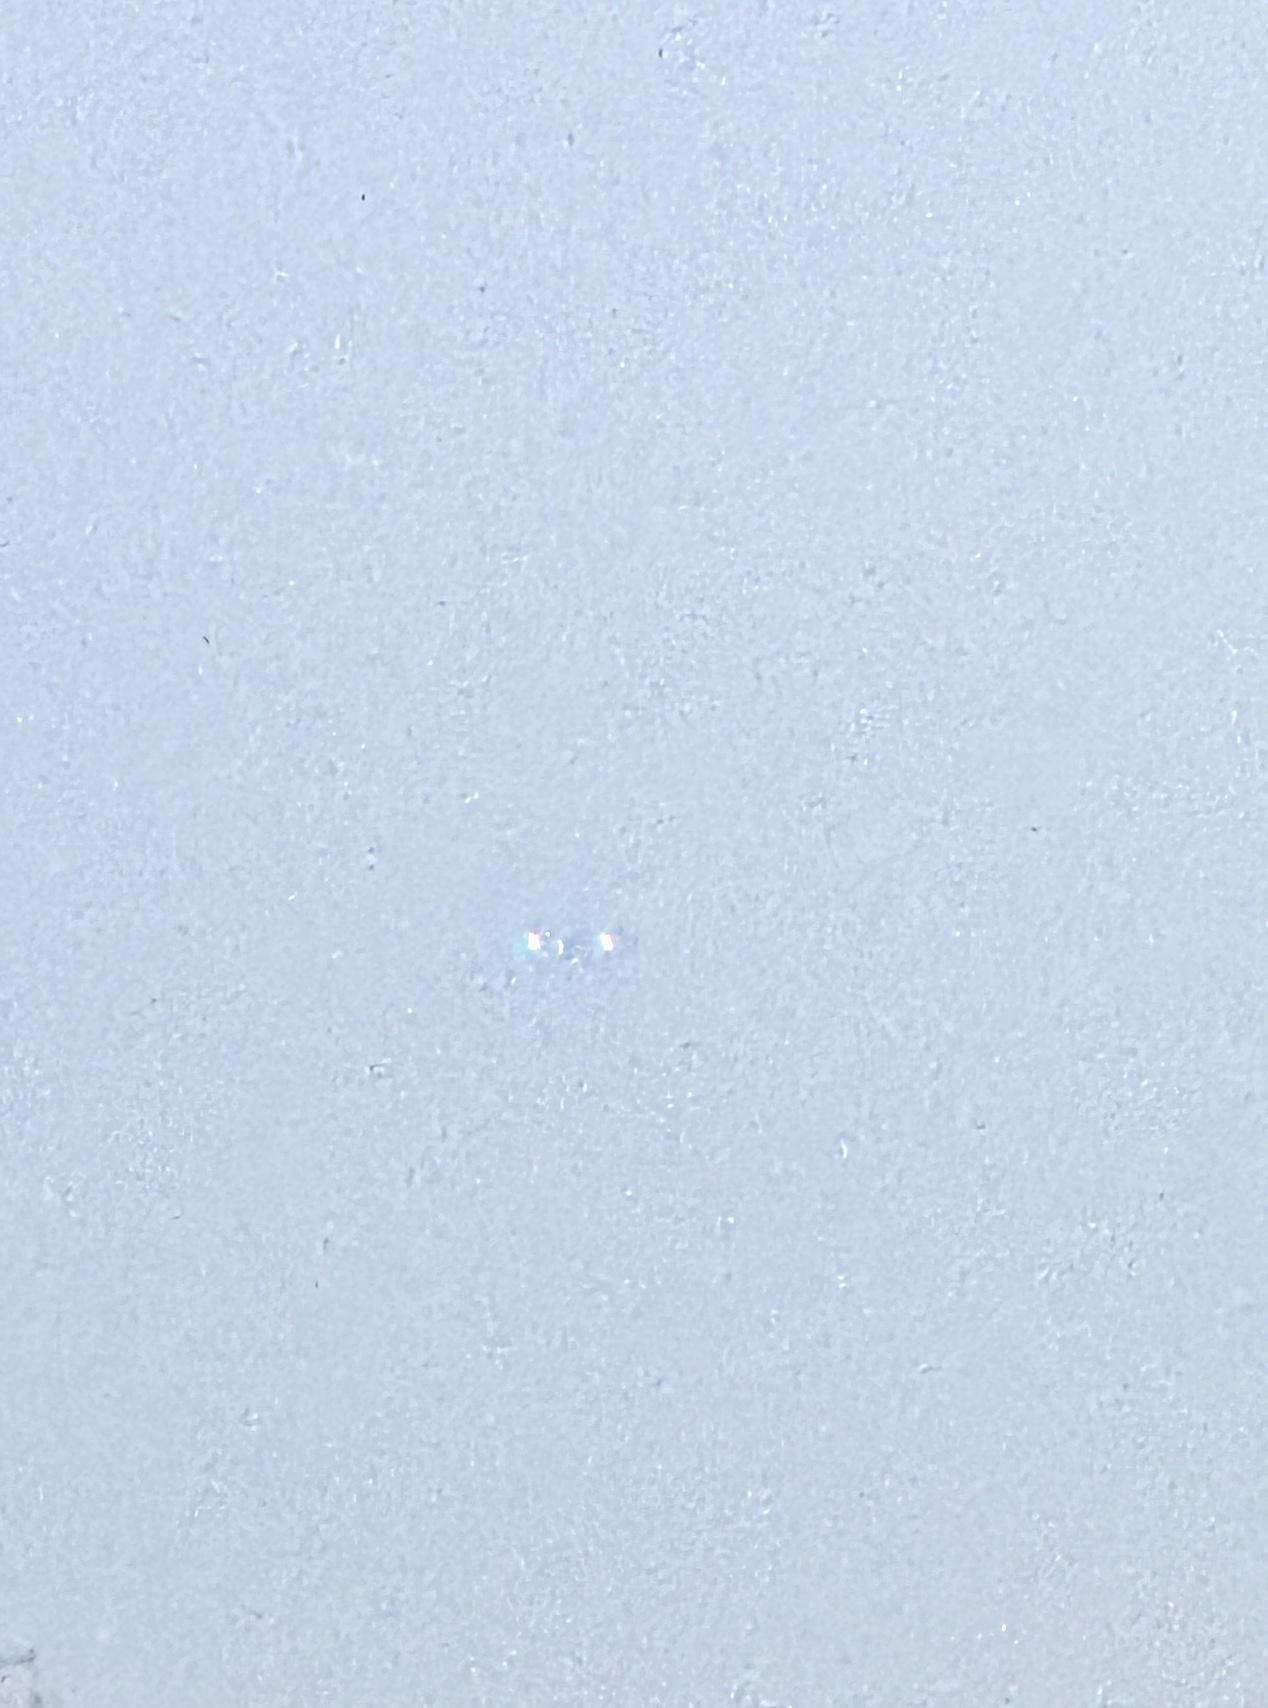Plane: (477, 909, 638, 997)
